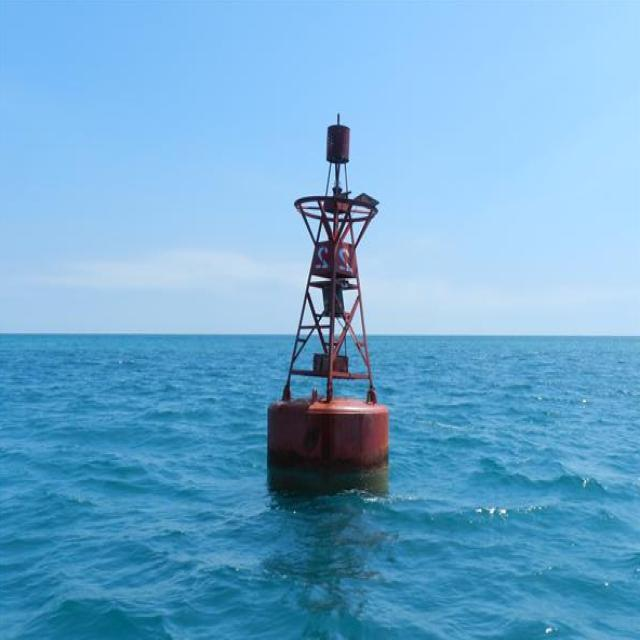buoy: (261, 115, 398, 468)
